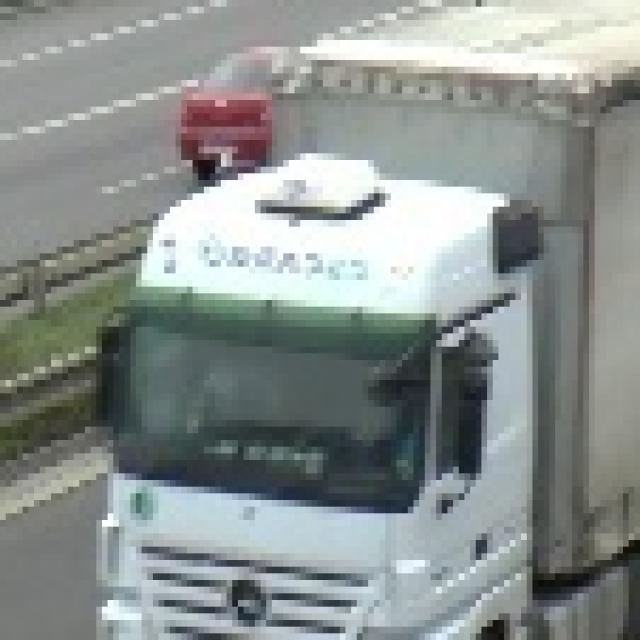TRUCK: (96, 10, 623, 630)
